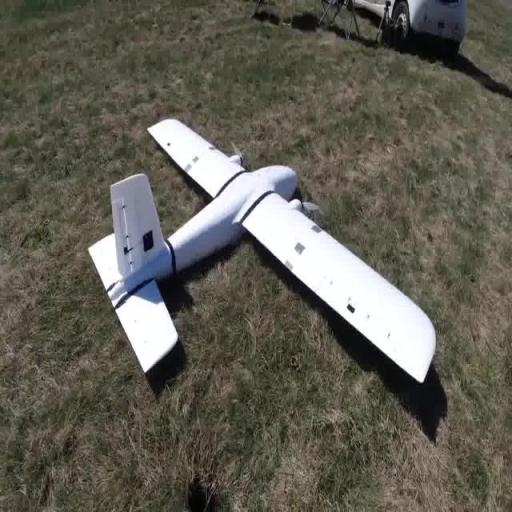uav: (83, 110, 442, 396)
